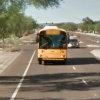Bus: (30, 19, 69, 69)
